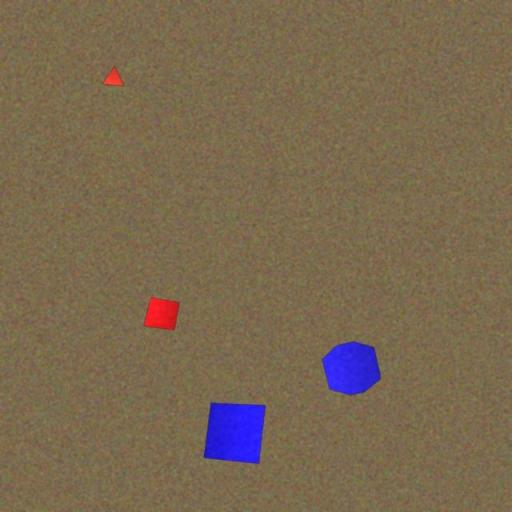BLUE_SQUARE: (204, 402, 266, 464)
RED_SQUARE: (143, 297, 181, 331)
